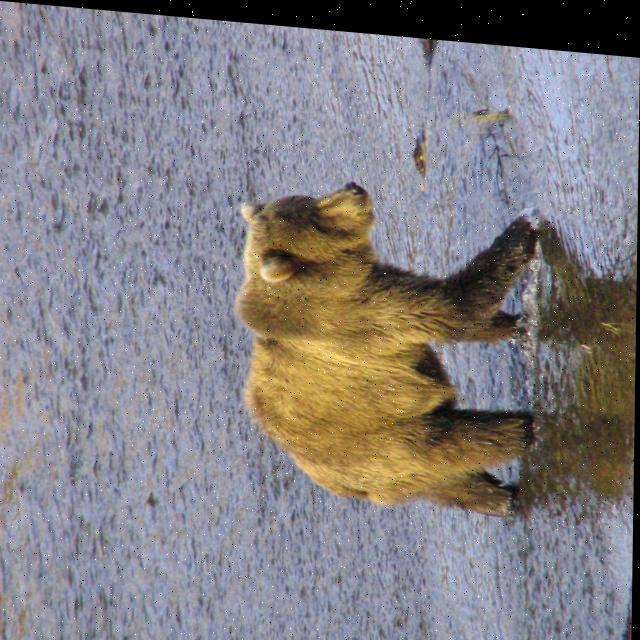bear face: (235, 164, 531, 505)
